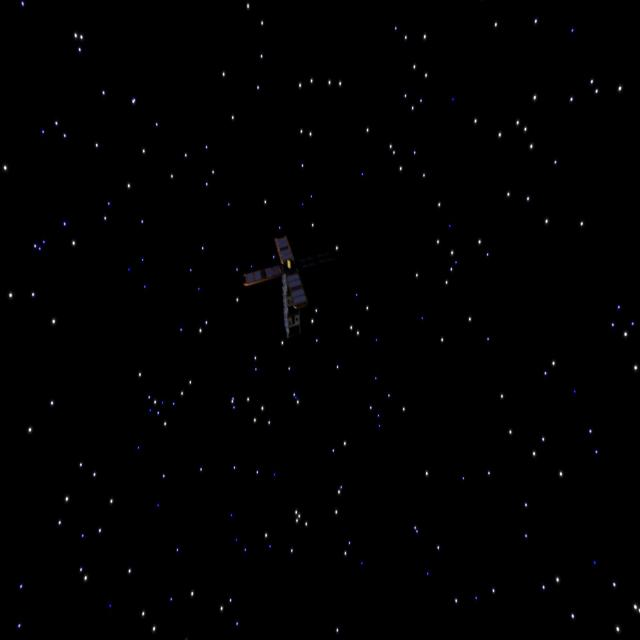satellite: (237, 229, 326, 352)
